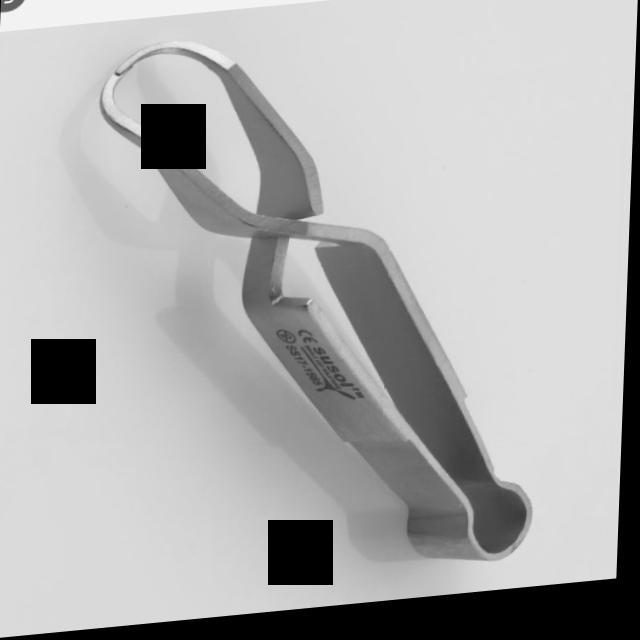Doyen Cross Action Towel Clamp: (81, 12, 567, 606)
